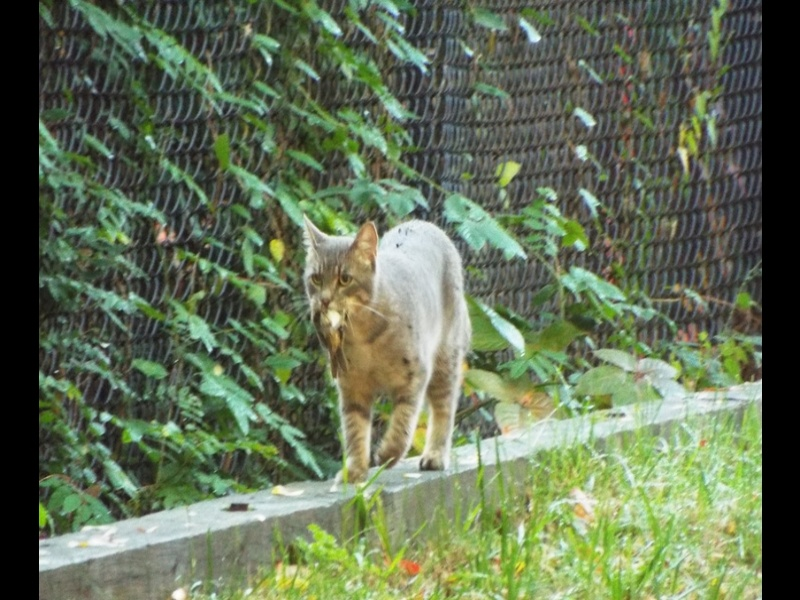cat: (295, 206, 475, 490)
